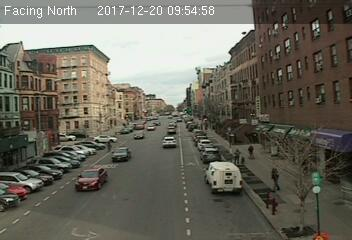bicycle: (105, 141, 112, 152)
car: (75, 165, 107, 190), (111, 147, 131, 161), (203, 148, 221, 161), (161, 135, 177, 147), (132, 131, 145, 139), (166, 126, 175, 134)
pedestrian: (268, 165, 283, 193)
truck: (204, 161, 242, 194)
